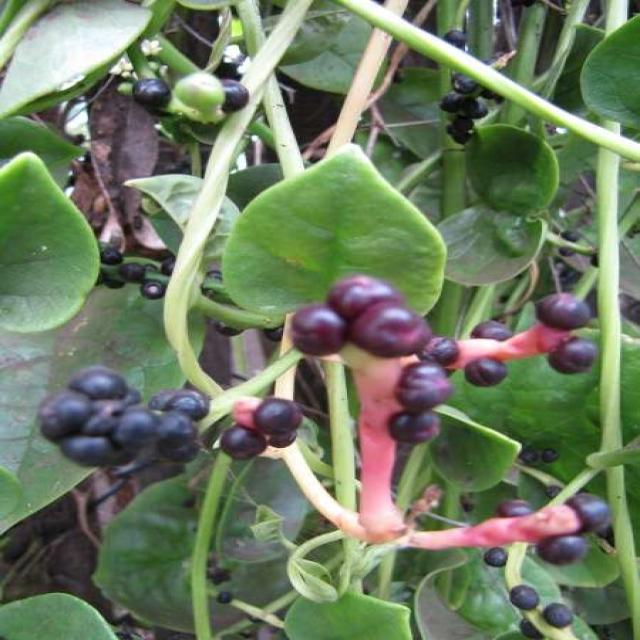Medicinal-Basale: (7, 0, 638, 629)
